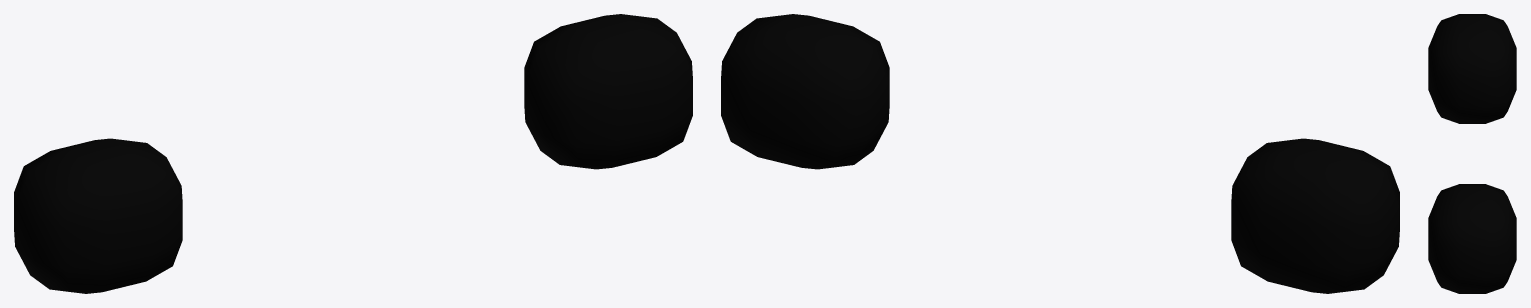
File: eyes.fbx
3 renders of one model, left to right at view 1: azimuth 30°, elevation 25°; view 2: azimuth 150°, elevation 25°; view 3: azimuth 270°, elevation 25°, orthographic. The views are drawn at different scales.
Visible parts, largest first — view 1: polySurface2; view 2: polySurface2; view 3: polySurface2.
Boxes of the visible parts, box(x1,y1,x2,y2) form: polySurface2: box(14, 14, 692, 293); polySurface2: box(721, 14, 1399, 293); polySurface2: box(1428, 14, 1516, 293).
Size of the model in its own units: 4.3 by 0.816 by 0.7342.
